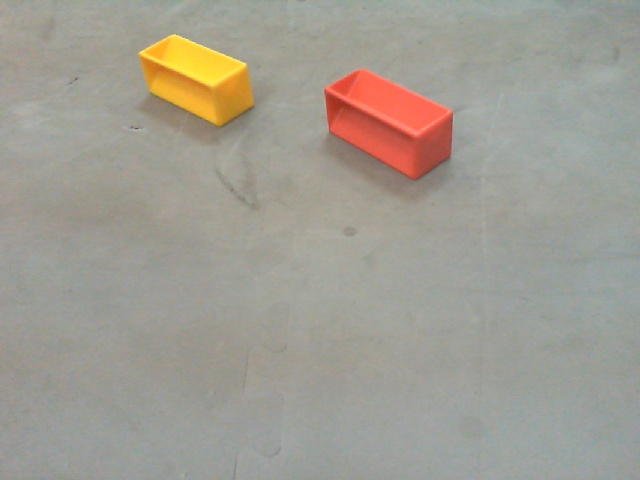RedSample: (324, 69, 455, 179)
YellowSample: (136, 33, 255, 128)
